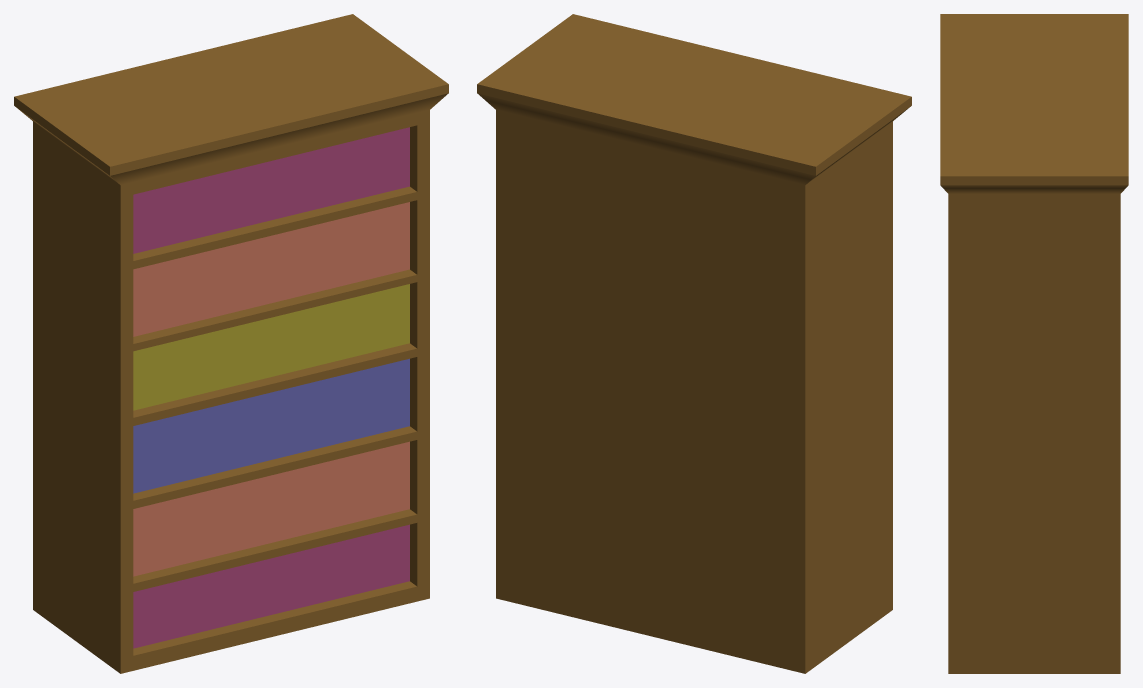
File: librero.fbx
The picture shows the model from 3 angles, left to right: view 1: azimuth 30°, elevation 25°; view 2: azimuth 150°, elevation 25°; view 3: azimuth 270°, elevation 25°; orthographic projection.
Visible parts, largest first — view 1: pCube8; view 2: pCube8; view 3: pCube8.
Boxes of the visible parts, box(x1,y1,x2,y2) form: pCube8: box(14, 14, 448, 673); pCube8: box(477, 14, 911, 673); pCube8: box(940, 14, 1128, 673).
Bounding box in the file's own units: 6.35 × 9.21 × 3.11.
